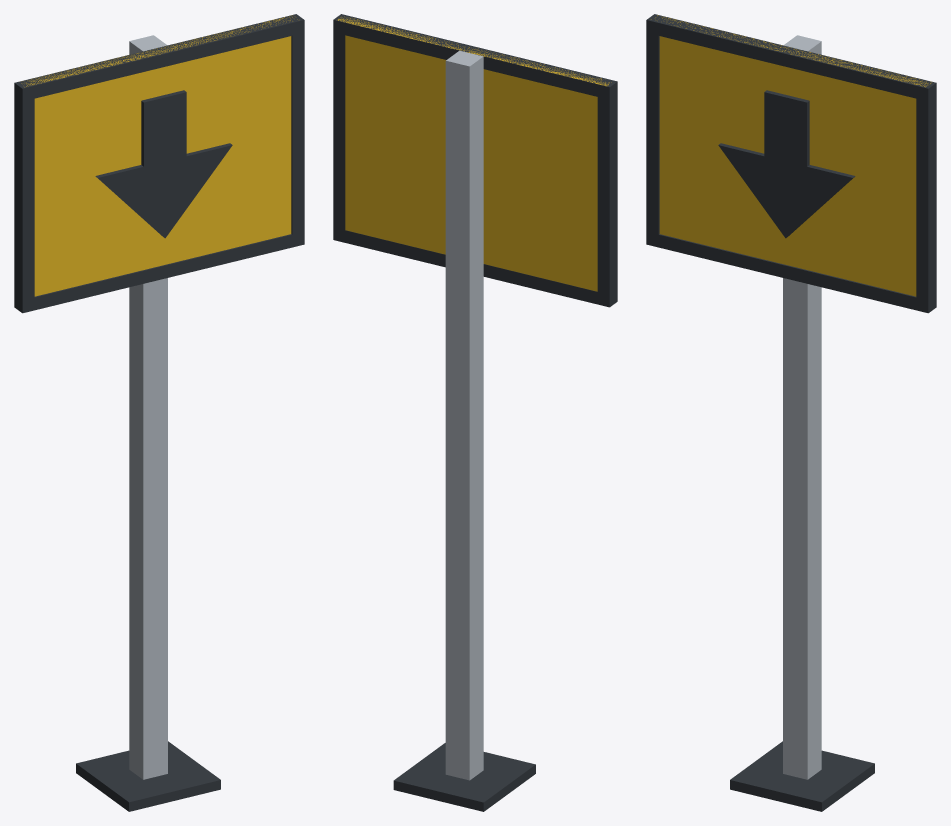
File: zone-sign-unload.glb
3 views of the same model, side by side, from view 1: azimuth 30°, elevation 25°; view 2: azimuth 150°, elevation 25°; view 3: azimuth 330°, elevation 25° (orthographic). The views are drawn at different scales.
Visible parts, largest first — view 1: Prop_ZoneSign_Unload_mesh; view 2: Prop_ZoneSign_Unload_mesh; view 3: Prop_ZoneSign_Unload_mesh.
Part boxes in pixels (left/top/right/bottom): Prop_ZoneSign_Unload_mesh: left=14, top=14, right=304, bottom=811; Prop_ZoneSign_Unload_mesh: left=333, top=14, right=617, bottom=811; Prop_ZoneSign_Unload_mesh: left=646, top=14, right=936, bottom=811.
Size of the model in its own units: 0.92 by 2.3 by 0.3.
